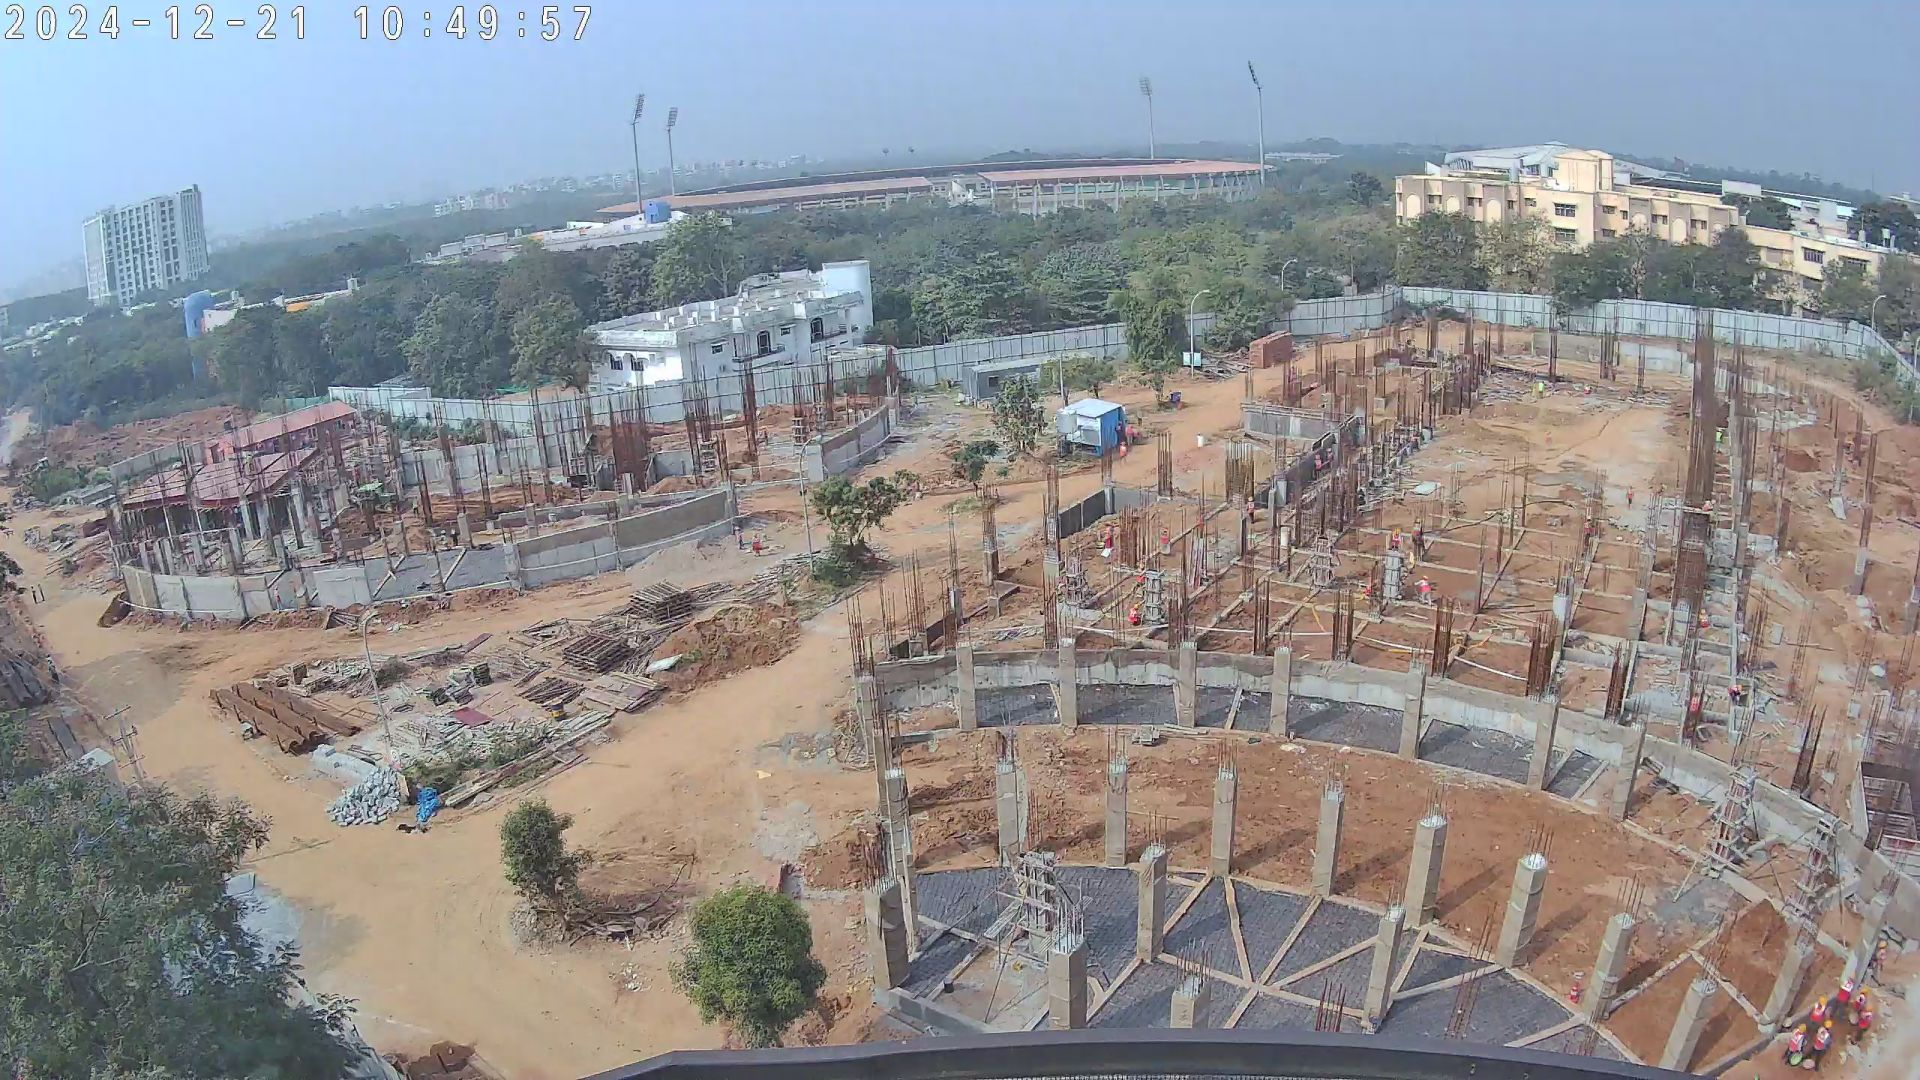worker: (1786, 1018, 1809, 1077), (1810, 1019, 1835, 1068), (1123, 597, 1147, 638), (1854, 1006, 1876, 1047), (1408, 516, 1430, 554), (1834, 971, 1854, 1012), (1874, 938, 1889, 987), (1414, 574, 1436, 607), (1806, 995, 1829, 1023), (1113, 439, 1129, 473), (1244, 491, 1260, 525), (1103, 518, 1117, 555), (1850, 989, 1868, 1016), (1364, 579, 1384, 603), (733, 522, 746, 556), (1388, 524, 1403, 553), (272, 585, 286, 615), (1583, 516, 1596, 547), (1696, 605, 1712, 629), (750, 532, 764, 559), (1713, 425, 1726, 453), (1702, 494, 1718, 516), (1160, 524, 1173, 548), (1534, 377, 1546, 402), (1125, 424, 1140, 444), (1728, 682, 1742, 703), (438, 528, 450, 552), (1626, 483, 1635, 513), (410, 493, 420, 520), (1312, 454, 1323, 476), (1115, 419, 1124, 445), (1326, 445, 1335, 470), (449, 528, 462, 545), (1197, 511, 1205, 537), (1136, 572, 1144, 592), (1582, 382, 1592, 396)
